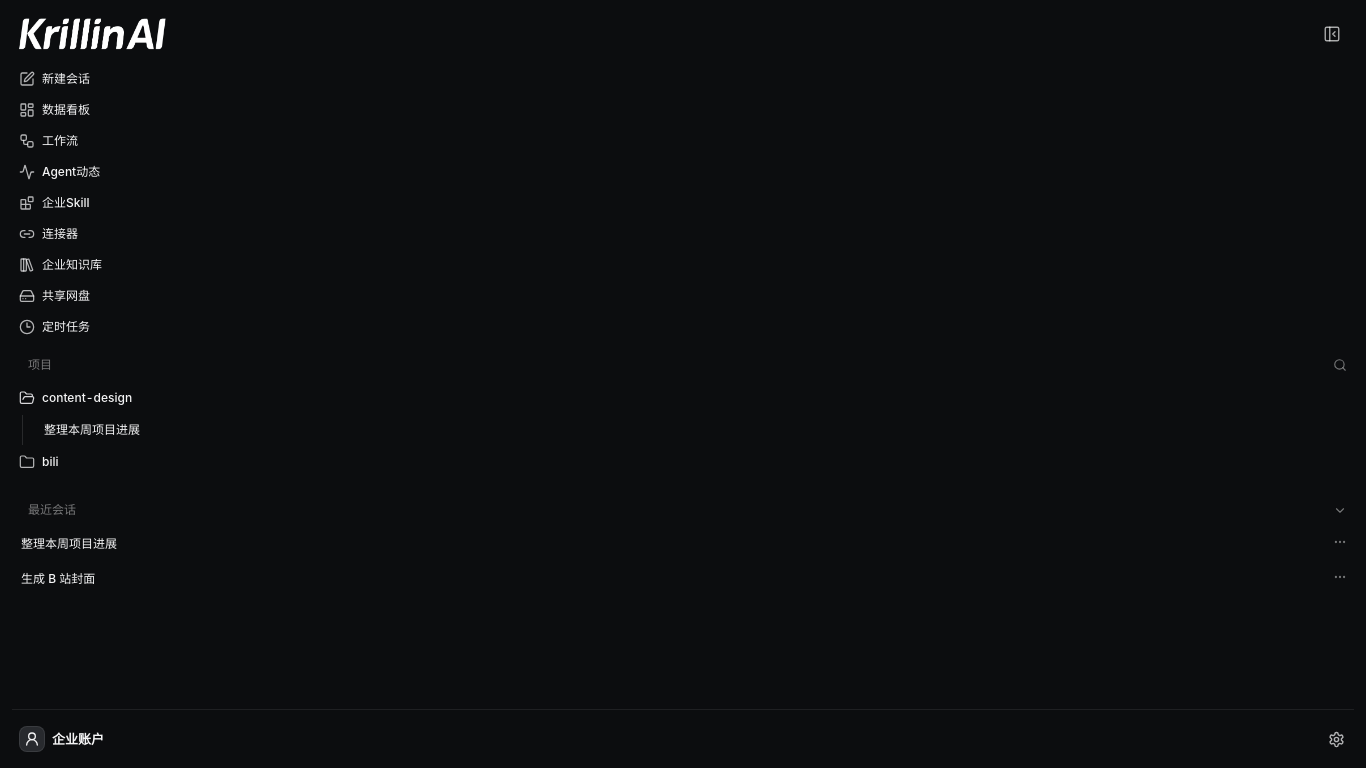
Scenario: ClaweeSidebar › expands and collapses conversations under a project
Check: the element named "content-design 会话" is shown, box [22,415,1354,445]
Click the button "content-design".
click(87, 398)  # box [12,382,1294,414]
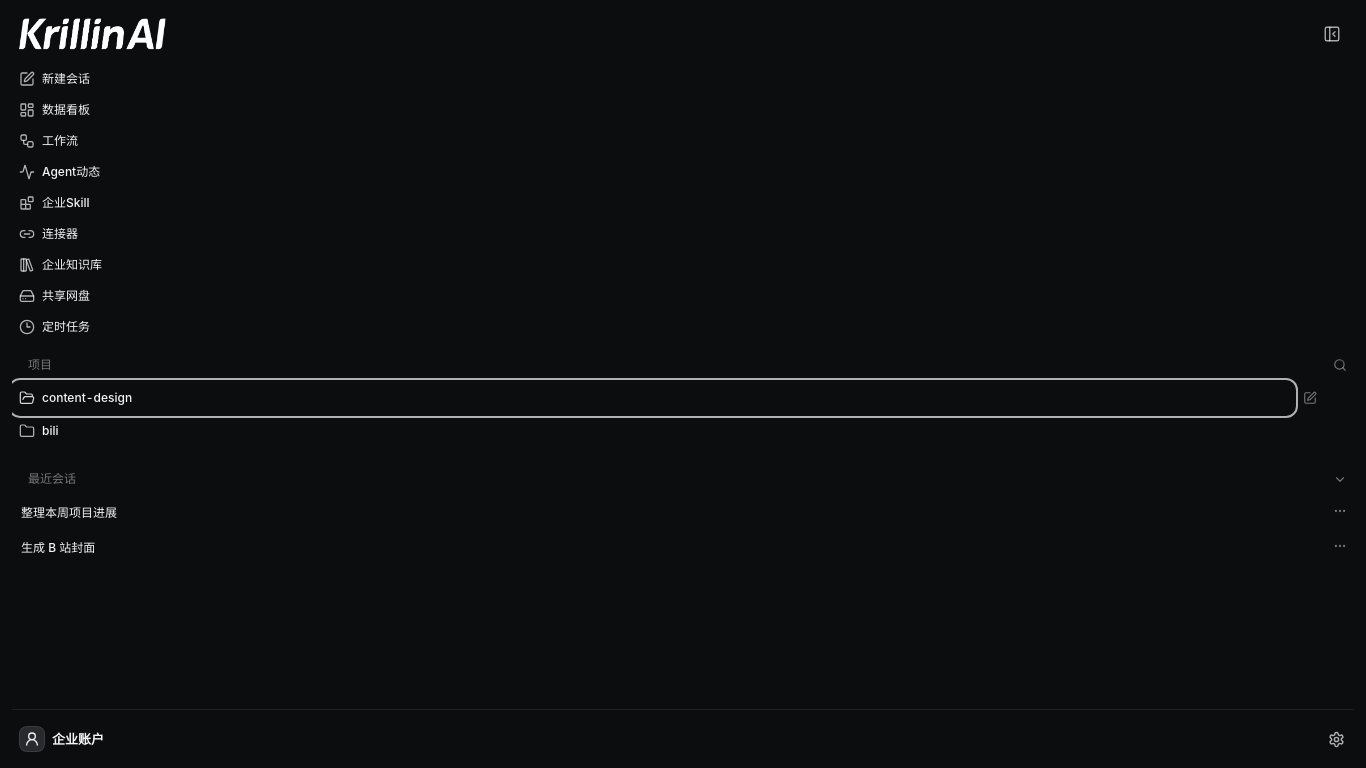
Click the button "content-design".
click(87, 398)  # box [12,382,1294,414]
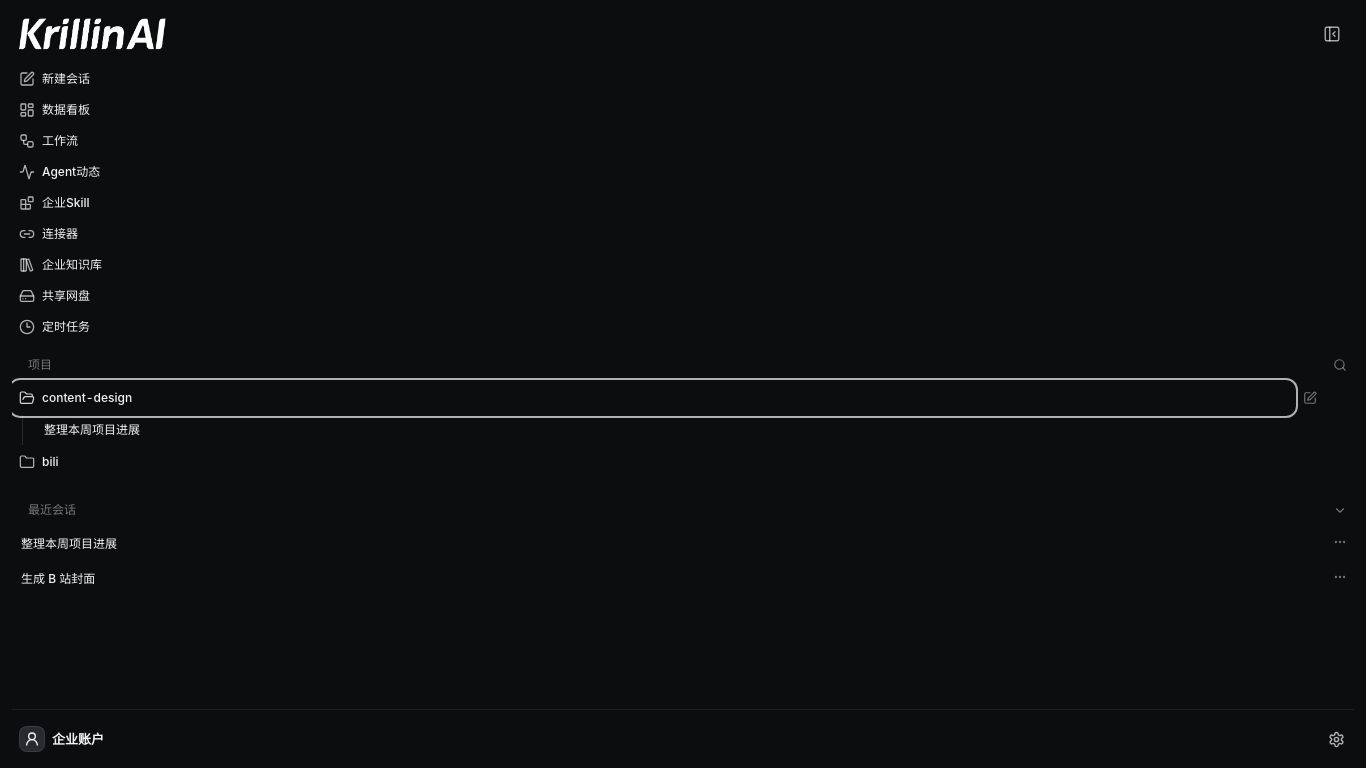
Check: the button named "整理本周项目进展 4天" is shown, box [12,527,1354,561]
Check: the element named "content-design 会话" is shown, box [22,415,1354,445]
